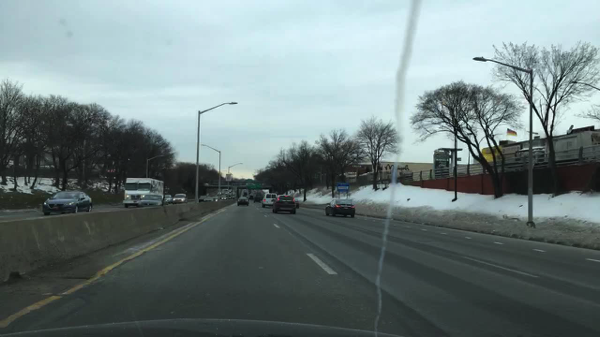car: (42, 192, 92, 216), (324, 201, 356, 218), (272, 196, 297, 214), (138, 195, 164, 207), (261, 194, 276, 209), (172, 194, 188, 205), (252, 191, 263, 204), (237, 197, 249, 206), (164, 194, 172, 204), (206, 196, 219, 201), (294, 198, 300, 208), (221, 195, 228, 201), (199, 196, 206, 202), (245, 183, 254, 187), (230, 193, 236, 199), (247, 191, 252, 196), (243, 190, 247, 195), (218, 192, 223, 196)
traffic sign: (337, 184, 349, 192)
truck: (124, 178, 164, 207)
